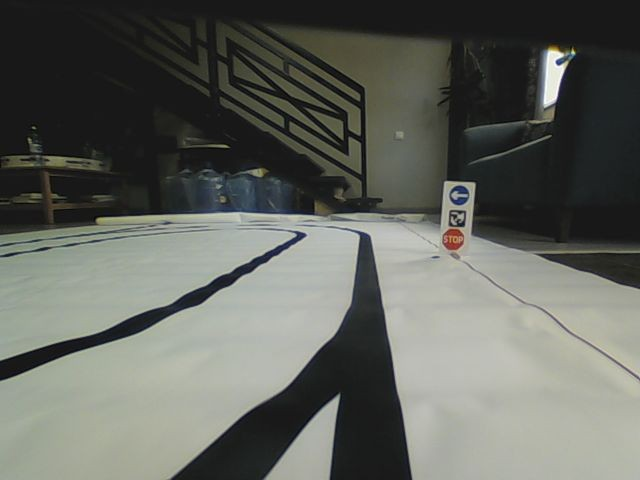Stop: (442, 227, 464, 250)
